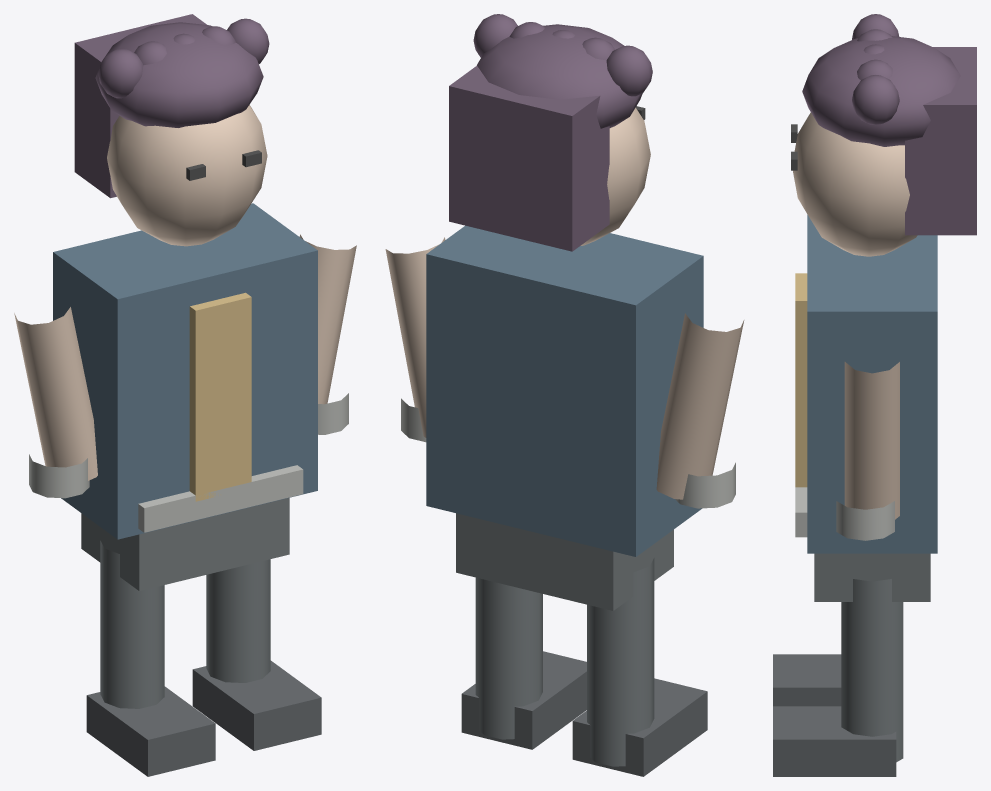
Rendered from edda-lume.glb.
3 views of the same model, side by side, from view 1: azimuth 30°, elevation 25°; view 2: azimuth 150°, elevation 25°; view 3: azimuth 270°, elevation 25° (orthographic). The views are drawn at different scales.
Parts seen in each view (by area): view 1: Torso, Head, Vest, HairCap, Pelvis, ArmL, LegL, FootL, FootR, LegR, HairBack, Belt (+5 smaller); view 2: Torso, HairBack, Pelvis, LegL, ArmL, LegR, HairCap, FootL, FootR, ArmR, Head, Curl0 (+3 smaller); view 3: Torso, Head, HairBack, HairCap, LegR, ArmR, FootR, Pelvis, FootL, Vest, CuffR, Curl4 (+3 smaller).
Boxes of the visible parts, bbox=[...] form: Torso: bbox=[53, 203, 317, 539]; Head: bbox=[107, 105, 267, 246]; Vest: bbox=[189, 292, 251, 501]; HairCap: bbox=[95, 22, 263, 127]; Pelvis: bbox=[81, 498, 289, 590]; ArmL: bbox=[14, 307, 97, 480]; LegL: bbox=[100, 540, 164, 708]; FootL: bbox=[86, 686, 215, 776]; FootR: bbox=[192, 660, 321, 750]; LegR: bbox=[206, 559, 270, 682]; HairBack: bbox=[74, 14, 206, 198]; Belt: bbox=[138, 465, 303, 532]; Torso: bbox=[426, 225, 703, 556]; HairBack: bbox=[449, 66, 609, 251]; Pelvis: bbox=[456, 513, 673, 610]; LegL: bbox=[587, 558, 654, 766]; ArmL: bbox=[656, 313, 744, 499]; LegR: bbox=[475, 577, 542, 739]; HairCap: bbox=[477, 24, 642, 128]; FootL: bbox=[572, 678, 707, 776]; FootR: bbox=[461, 651, 586, 749]; ArmR: bbox=[385, 237, 445, 437]; Head: bbox=[580, 107, 650, 245]; Curl0: bbox=[606, 45, 652, 96]; Torso: bbox=[807, 214, 937, 553]; Head: bbox=[793, 112, 917, 256]; HairBack: bbox=[905, 47, 976, 235]; HairCap: bbox=[802, 36, 960, 146]; LegR: bbox=[841, 579, 903, 762]; ArmR: bbox=[844, 362, 899, 519]; FootR: bbox=[773, 706, 896, 776]; Pelvis: bbox=[814, 553, 930, 601]; FootL: bbox=[773, 654, 841, 706]; Vest: bbox=[795, 273, 807, 487]; CuffR: bbox=[836, 501, 894, 540]; Curl4: bbox=[852, 75, 899, 125].
Bounding box in the file's own units: 1.14 × 2.21 × 0.595.
